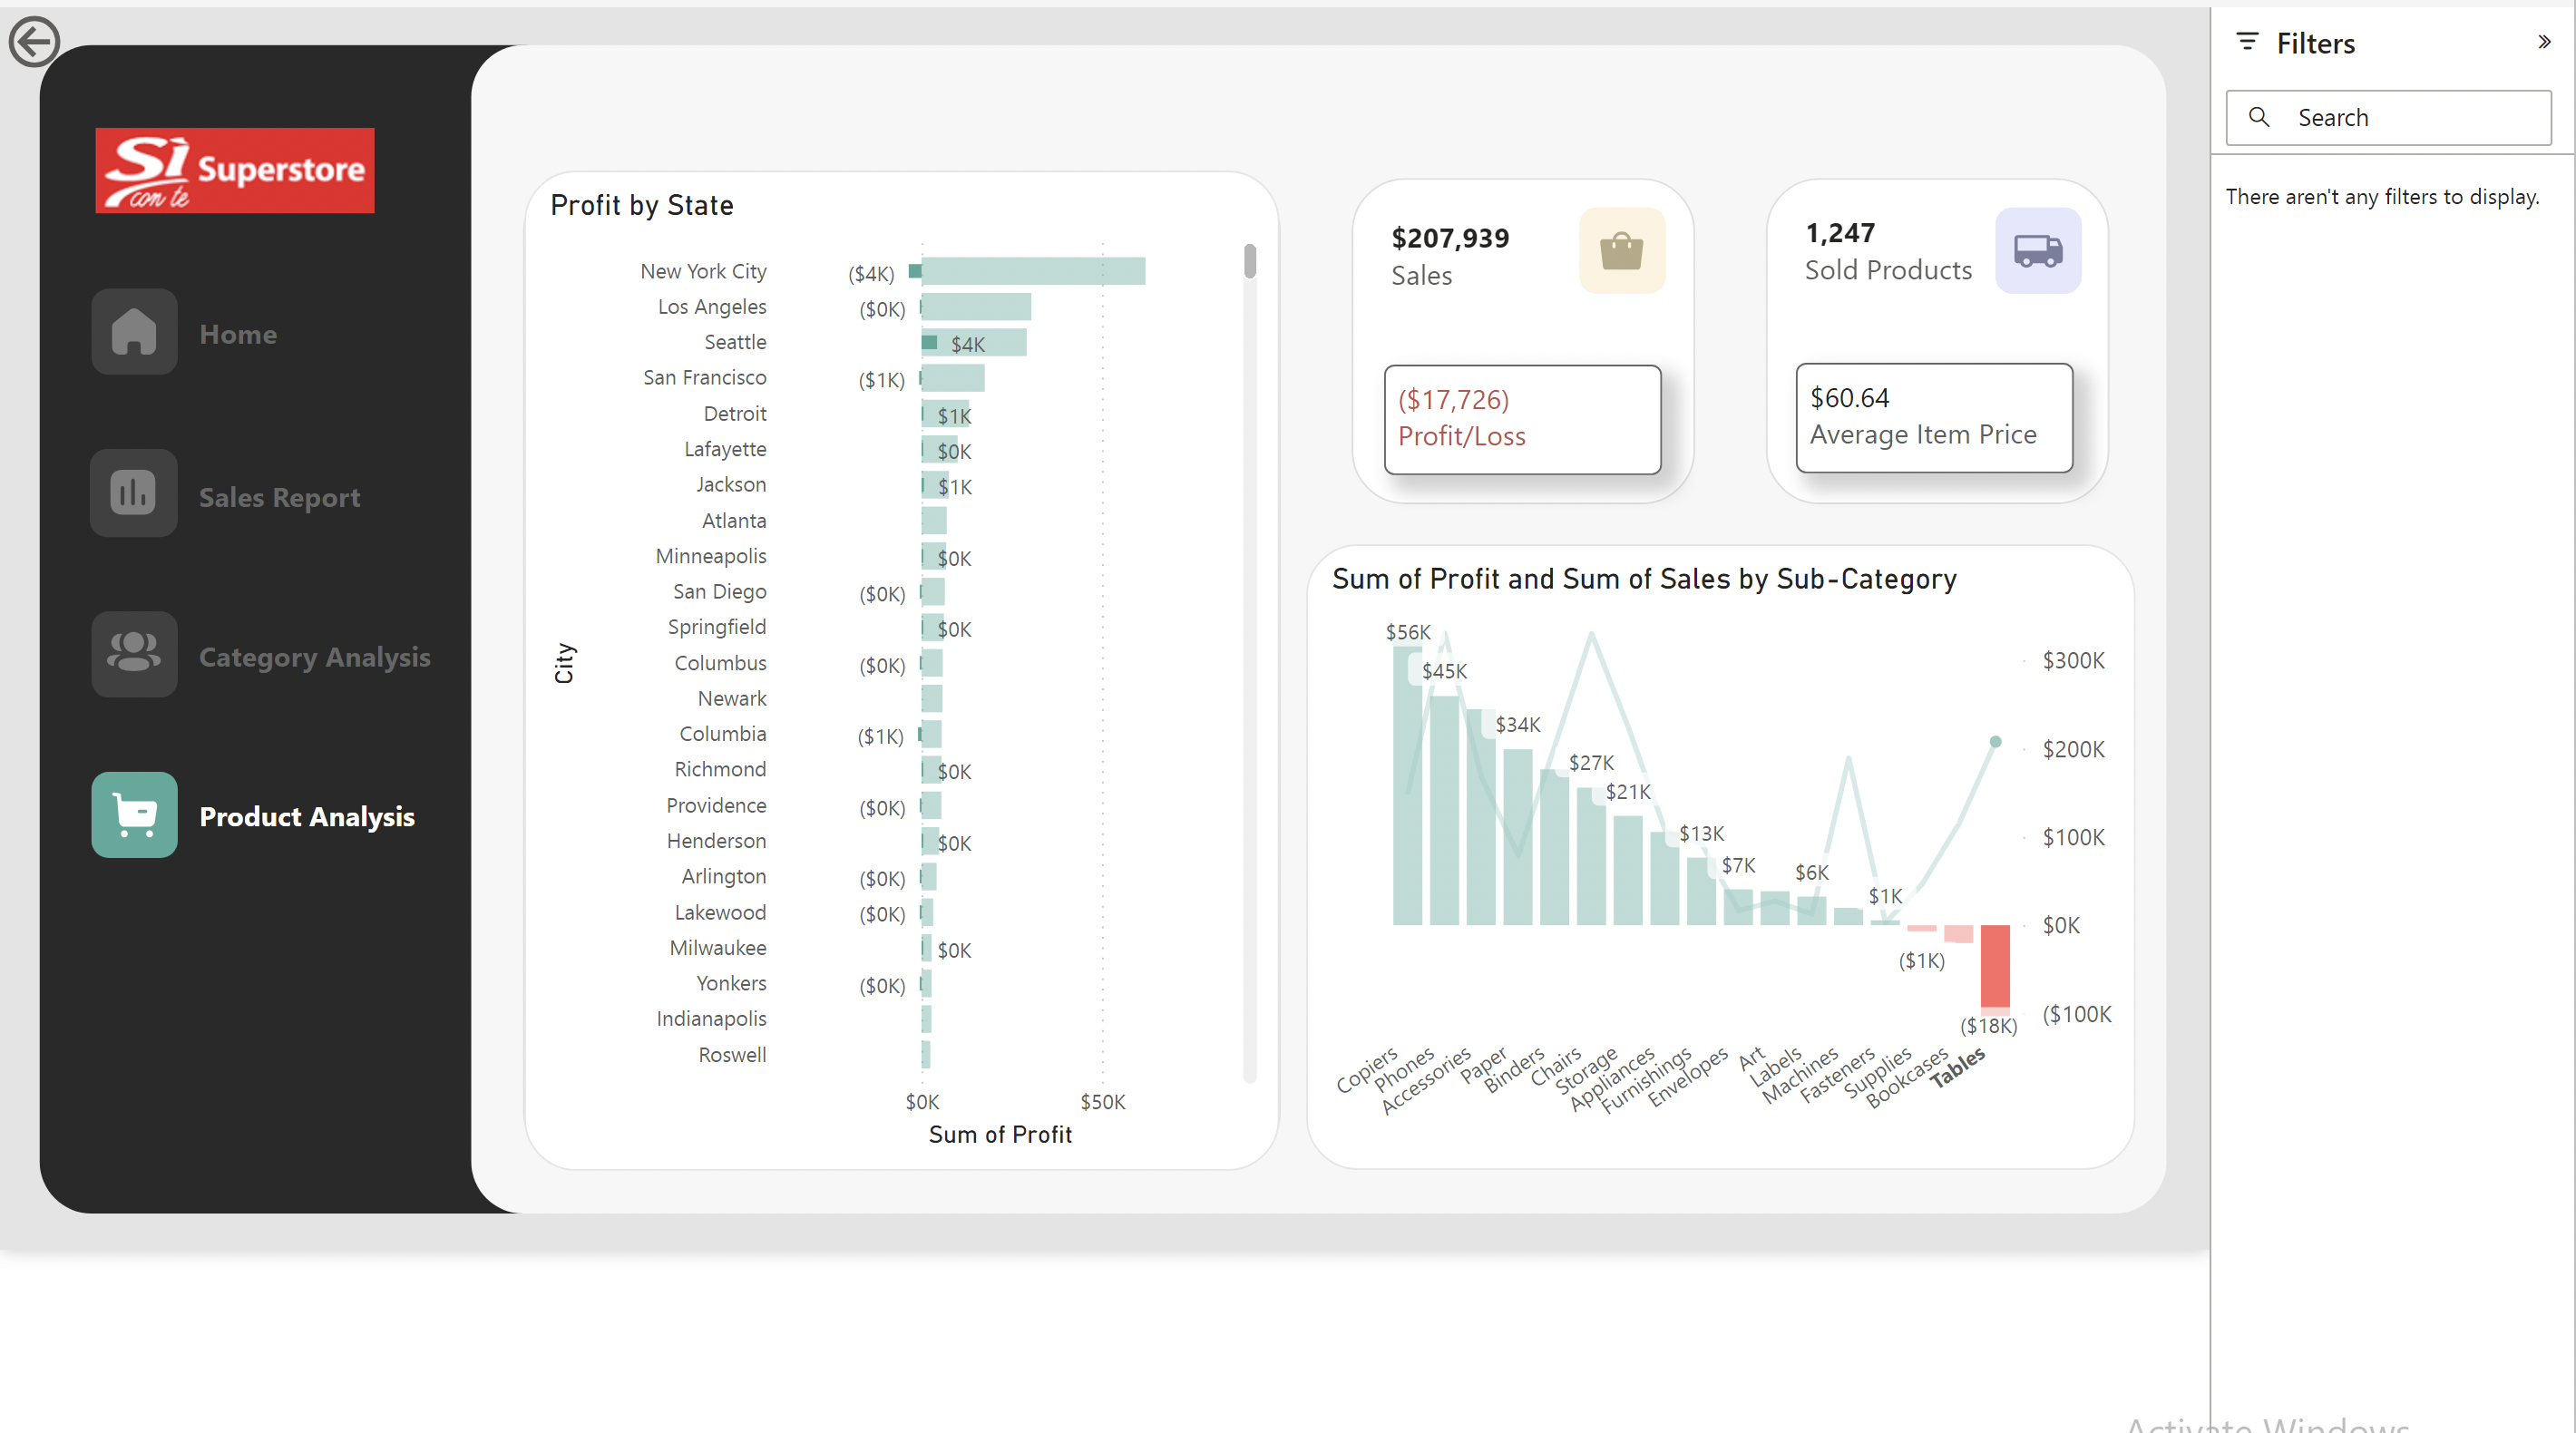

The dashboard page shown, as its layout file describes it:
{"tool":"powerbi","page":{"name":"Products Analysis","canvas":[1280,720],"ordinal":3},"visuals":[{"type":"group","id":"g1","title":"Group 1","box":[303.4,94.6,933.6,579.6],"z":0},{"type":"clusteredBarChart","title":"Profit by State","fields":{"Y":["Sum(SalesFact.Profit)"],"Category":["LocationDim.Country Hierarchy.City","LocationDim.Country Hierarchy.Postal Code"]},"box":[303.4,94.6,437.3,579.6],"z":0,"group":"g1"},{"type":"multiRowCard","fields":{"Values":["Sum(SalesFact.Quantity)"]},"box":[1040.8,113,136.8,52.5],"z":0,"group":"g3"},{"type":"multiRowCard","fields":{"Values":["Sum(SalesFact.Sales)"]},"box":[800.8,116.3,136.9,52.5],"z":0,"group":"g2"},{"type":"actionButton","title":"product","box":[111.5,447.5,149.1,40.5],"z":0,"group":"g4"},{"type":"actionButton","box":[0,0,100,40],"z":1000},{"type":"multiRowCard","fields":{"Values":["Sum(SalesFact.Profit)"]},"box":[802.3,206.4,160.9,63.9],"z":1000,"group":"g2"},{"type":"lineClusteredColumnComboChart","fields":{"Category":["CategoryDim.Category Hierarchy.Category","CategoryDim.Category Hierarchy.Sub-Category"],"Y":["Sum(SalesFact.Profit)"],"Y2":["Sum(SalesFact.Sales)"]},"box":[756.6,311,480.4,362.4],"z":1000,"group":"g1"},{"type":"actionButton","title":"category","box":[111.5,354.8,149.1,40.5],"z":1000,"group":"g4"},{"type":"multiRowCard","fields":{"Values":["SalesFact.Avg Item Price (after discount)"]},"box":[1040.4,206.5,160.9,63.9],"z":2000},{"type":"actionButton","title":"sales","box":[111.5,262.1,149.1,40.5],"z":2000,"group":"g4"},{"type":"actionButton","title":"home","box":[111.5,168,99.9,40.5],"z":3000,"group":"g4"},{"type":"group","id":"g2","title":"Sales","box":[800.8,116.3,162.4,154],"z":4000},{"type":"group","id":"g3","title":"products","box":[1040.8,113,136.8,52.5],"z":5000},{"type":"group","id":"g4","title":"navigation","box":[111.5,168,149.1,320],"z":6000},{"type":"image","box":[50.5,8,171.3,172.6],"z":7000}]}

Visuals, with their boxes on the page's 1280x720 design canvas (x1, y1, x2, y2). These are canvas units, not pixel positions in the 2576x1433 screenshot, which may show the page scaled, cropped or inside an application window:
"Group 1" group: [303, 95, 1237, 674]
"Profit by State" clusteredBarChart: [303, 95, 741, 674]
multiRowCard - Sum(SalesFact.Quantity): [1041, 113, 1178, 166]
multiRowCard - Sum(SalesFact.Sales): [801, 116, 938, 169]
"product" actionButton: [112, 448, 261, 488]
actionButton: [0, 0, 100, 40]
multiRowCard - Sum(SalesFact.Profit): [802, 206, 963, 270]
lineClusteredColumnComboChart - CategoryDim.Category Hierarchy.Category x CategoryDim.Category Hierarchy.Sub-Category: [757, 311, 1237, 673]
"category" actionButton: [112, 355, 261, 395]
multiRowCard - SalesFact.Avg Item Price (after discount): [1040, 206, 1201, 270]
"sales" actionButton: [112, 262, 261, 303]
"home" actionButton: [112, 168, 211, 208]
"Sales" group: [801, 116, 963, 270]
"products" group: [1041, 113, 1178, 166]
"navigation" group: [112, 168, 261, 488]
image: [50, 8, 222, 181]
